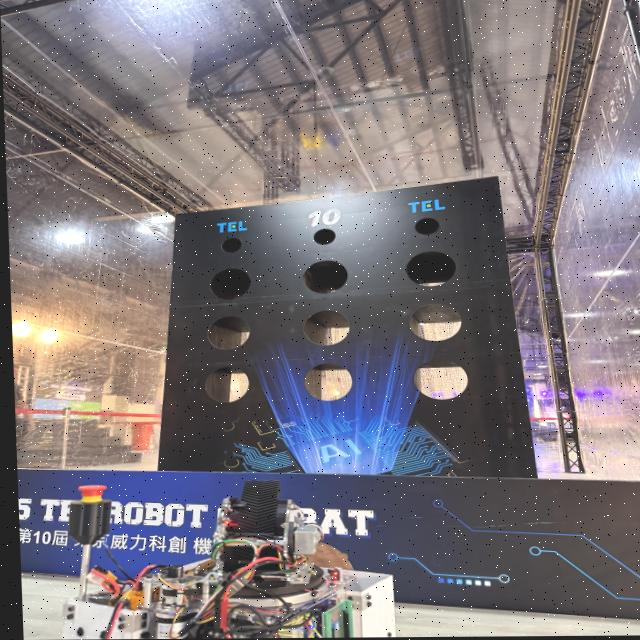hole: (412, 359, 468, 399), (409, 302, 463, 341), (304, 362, 352, 401), (406, 251, 456, 287), (205, 366, 249, 402), (305, 310, 350, 345), (207, 315, 250, 349), (304, 260, 348, 293), (210, 268, 252, 299), (414, 218, 441, 235), (312, 229, 336, 244), (222, 237, 242, 252)
